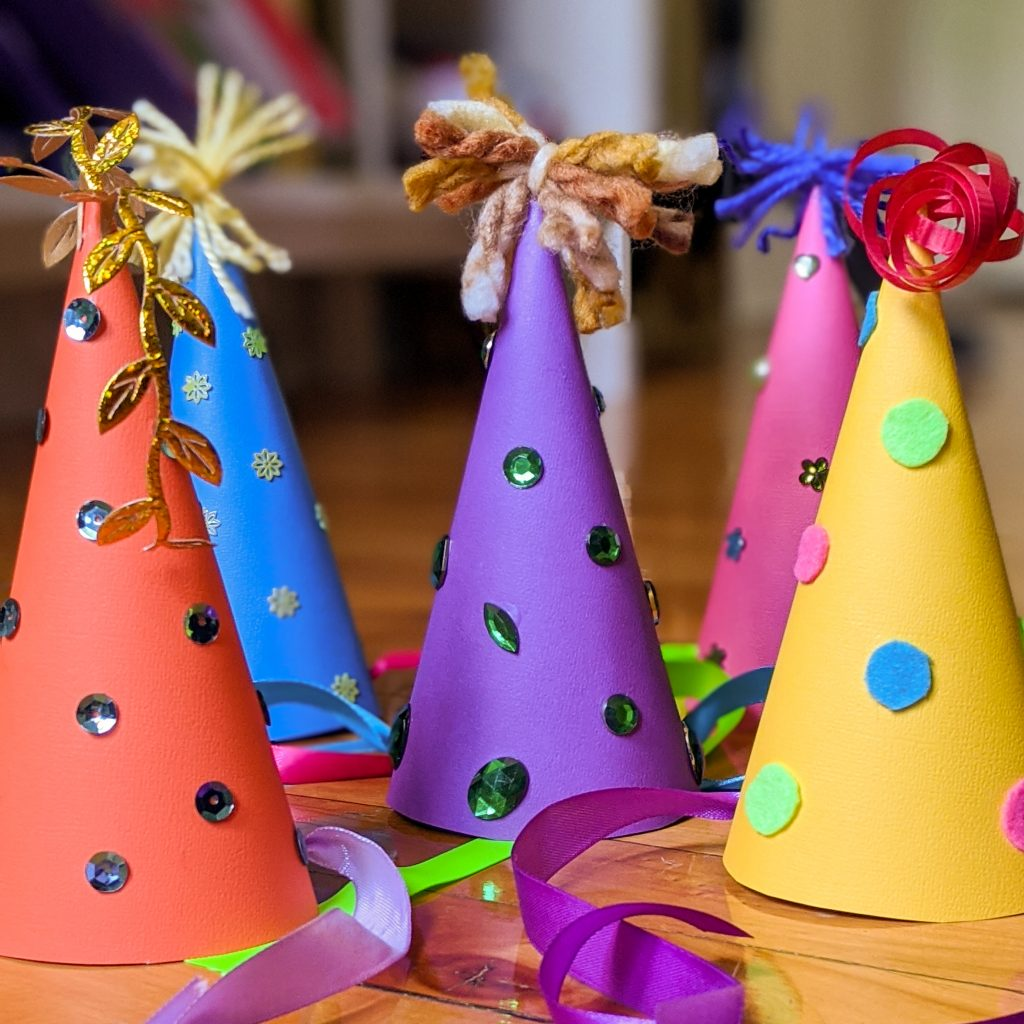cone: (1, 199, 320, 965), (723, 233, 1024, 922), (389, 202, 700, 841), (169, 218, 384, 741), (698, 185, 865, 730)
